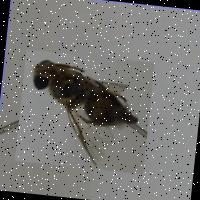Oriental-fruit-fly: (14, 50, 154, 174)
